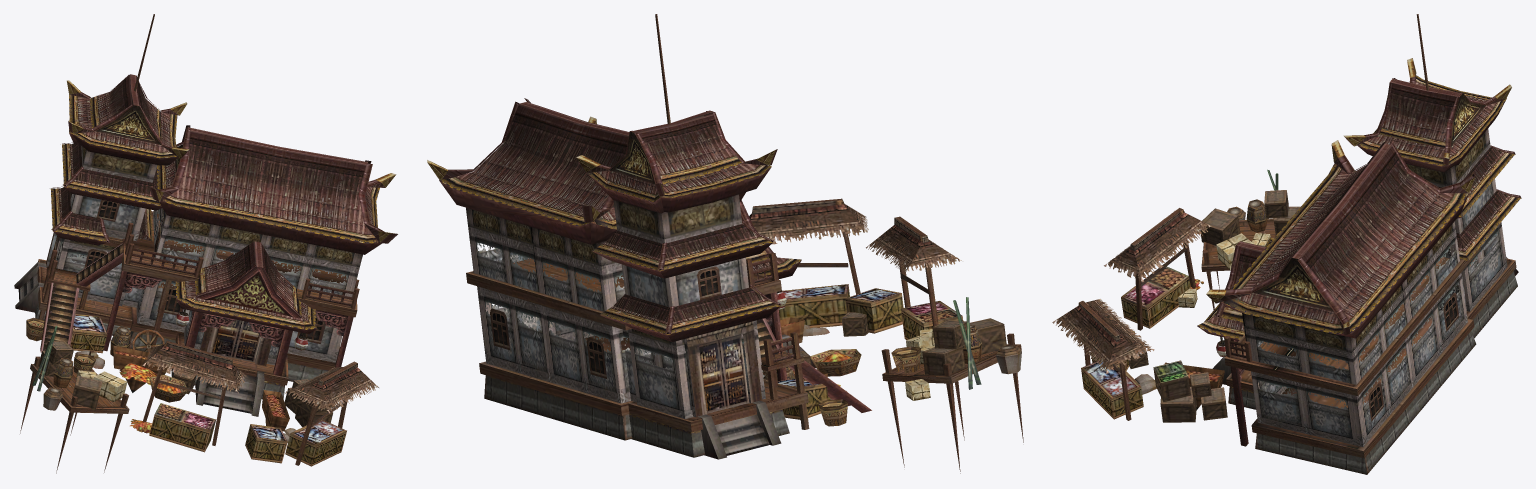
Rendered from china_market.fbx.
The picture shows the model from 3 angles, left to right: view 1: azimuth 30°, elevation 25°; view 2: azimuth 150°, elevation 25°; view 3: azimuth 270°, elevation 25°; orthographic projection. The views are drawn at different scales.
Parts seen in each view (by area): view 1: Object01, Object03, Object02; view 2: Object01, Object03, Object02; view 3: Object01, Object03, Object02.
Part boxes in pixels (x1,y1,x2,y2): Object01: (14,14,397,473); Object03: (57,208,362,381); Object02: (26,309,343,442); Object01: (427,14,1023,473); Object03: (466,207,765,440); Object02: (762,263,1021,426); Object01: (1052,14,1521,458); Object03: (1242,221,1507,474); Object02: (1086,169,1300,422).
Bounding box in the file's own units: 14.23 × 13.22 × 12.15.
2 materials, 2 textured.
